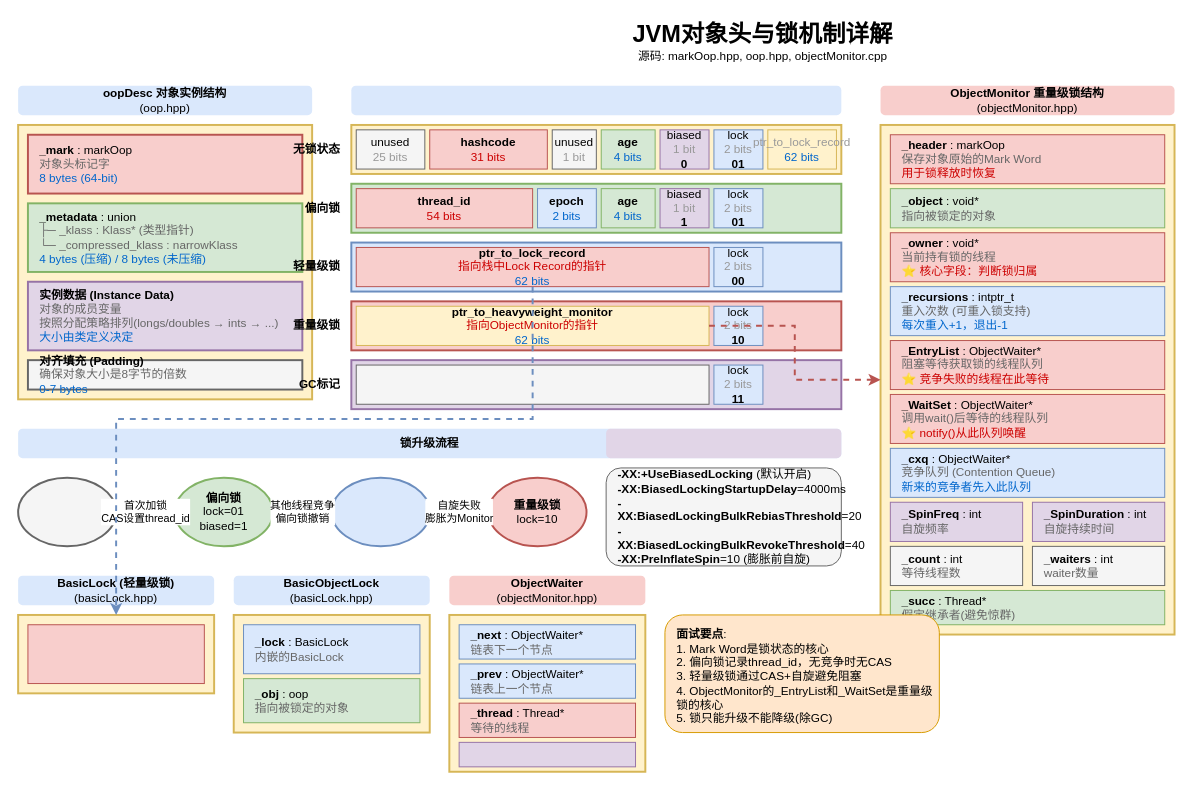
Some shapes in this 1192 by 789 pixel diagram are drawn without their labels. Each missing label, with the centre of its shape:
"_displaced_header : markOop 保存对象原始Mark Word 解锁时用于CAS恢复" goes at (115,654).
"Mark Word 详细结构 (64-bit) (markOop.hpp)" goes at (596,100).
"TState : TStates TS_RUN/TS_WAIT/TS_ENTER" goes at (547,754).
"关键JVM参数" goes at (723,443).
"无锁 lock=01 biased=0" goes at (67,511).
"转发指针 (forwarding pointer) GC复制阶段指向新位置 62 bits" goes at (532,384).
"轻量级锁 lock=00" goes at (380,511).
